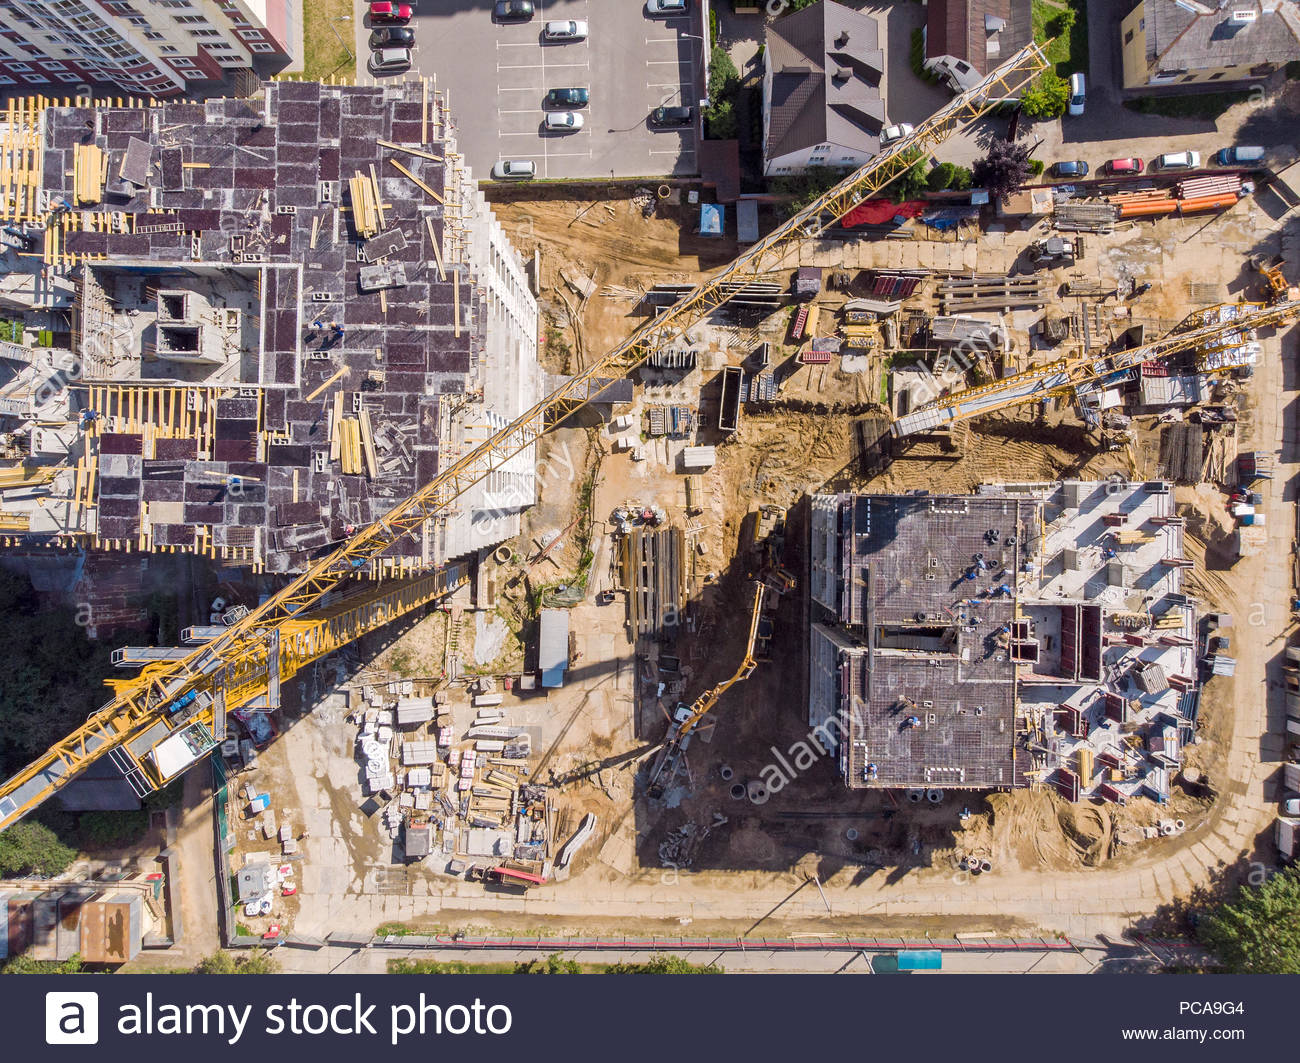crane: (103, 557, 470, 810), (896, 302, 1300, 442)
